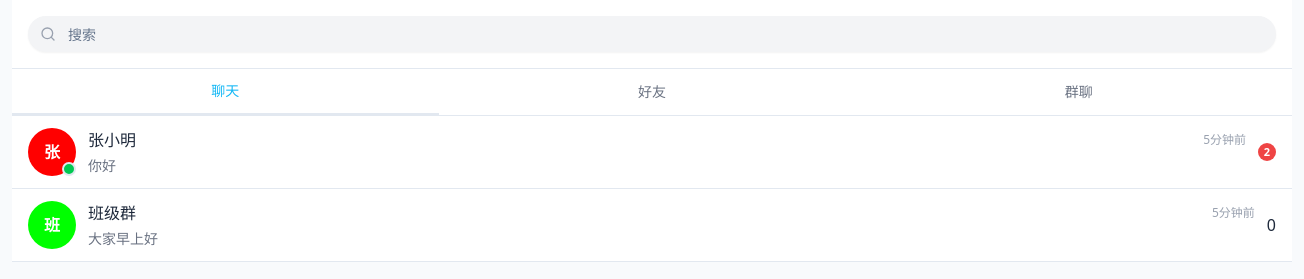
Test: ChatList › filters friends by search query
This screenshot has width=1304, height=279.
Type "李华" into the field with placeholder "搜索" at (652, 34), box [28,16,1276,52]
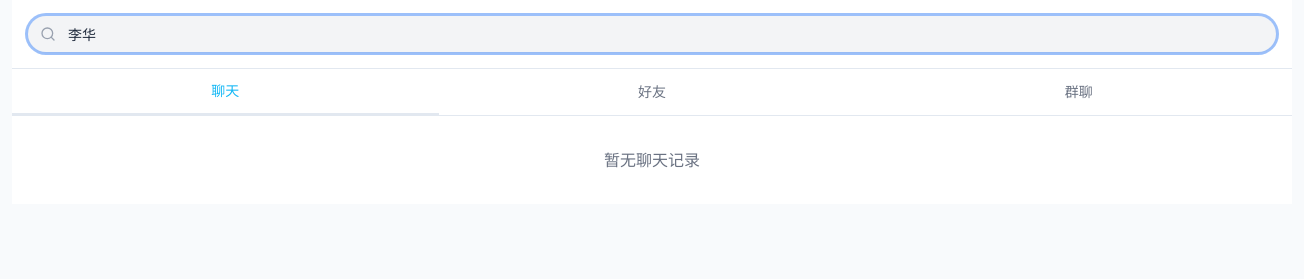
Click the button "好友" at (652, 92), box [439,69,865,115]
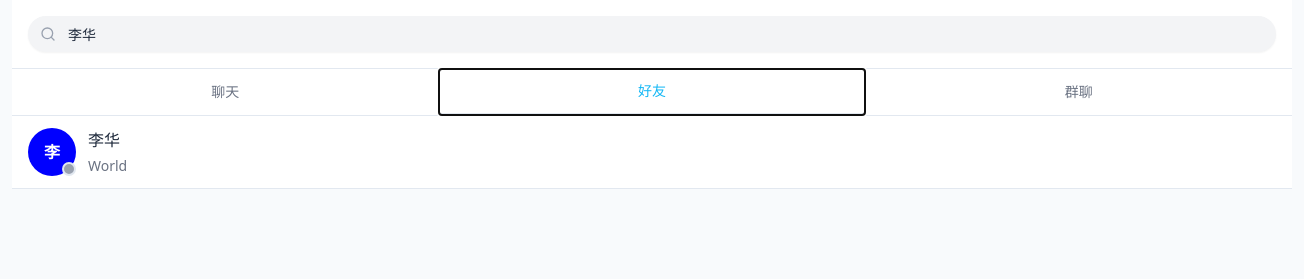
expect the text "张小明" is not shown: met
expect the text "李华" is shown: met, box [88,128,120,152]
